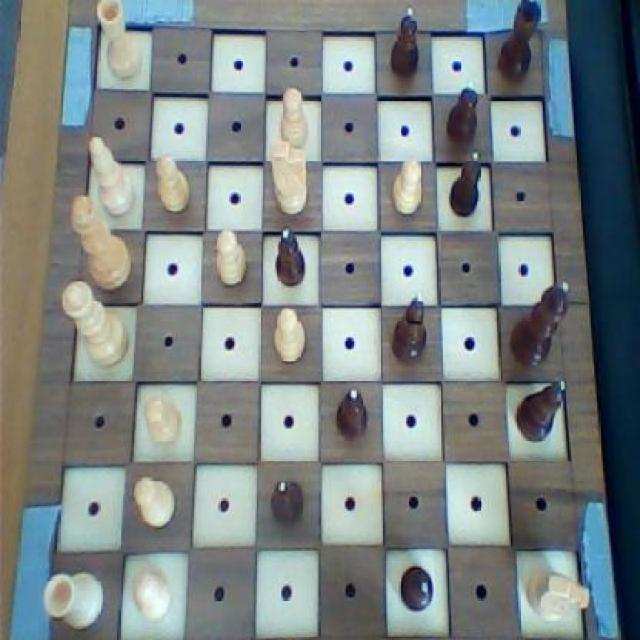bishop: (514, 374, 569, 445), (386, 286, 432, 366)
black-bishop: (506, 274, 572, 370)
black-knight: (386, 3, 424, 79), (443, 78, 482, 148), (445, 149, 482, 222), (266, 475, 309, 534), (272, 226, 308, 291), (334, 382, 369, 442), (397, 563, 437, 615)
black-queen: (494, 0, 548, 83)
black-rook: (85, 134, 140, 221)
white-bishop: (66, 192, 133, 293)
white-king: (522, 560, 594, 628), (266, 134, 311, 221)
white-knight: (126, 566, 174, 629), (152, 150, 194, 218), (142, 395, 188, 454), (131, 472, 176, 532), (210, 226, 248, 294), (269, 303, 309, 367), (277, 83, 312, 151), (390, 152, 424, 217)
white-pawn: (60, 278, 132, 372)
white-queen: (91, 0, 146, 83), (40, 564, 106, 628)
